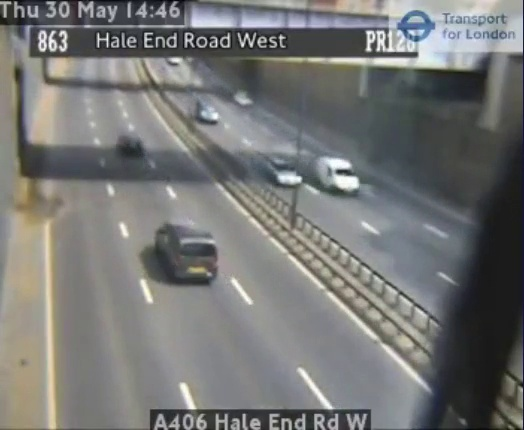van: (158, 223, 219, 282)
